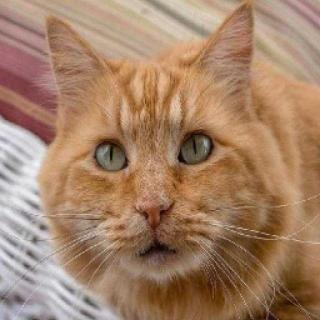cat: (46, 20, 265, 285)
nose: (128, 188, 174, 230)
